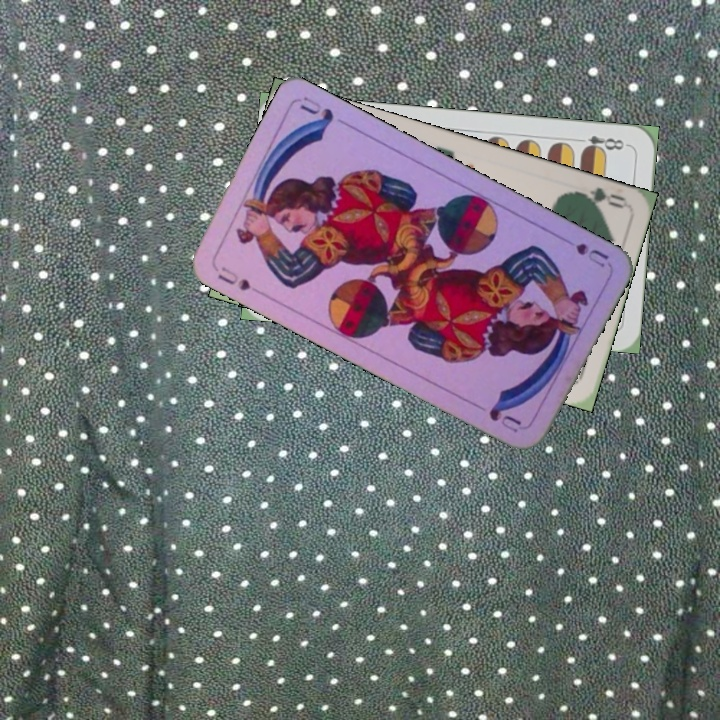E8: (572, 131, 631, 156)
GO: (569, 183, 629, 212)
SU: (555, 232, 611, 270), (213, 262, 253, 294)
